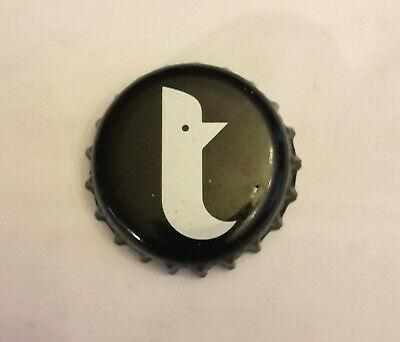metal: (87, 65, 302, 276)
